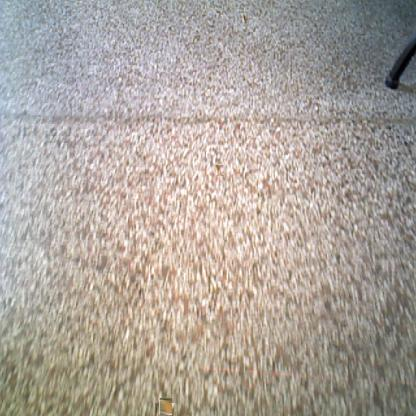dirty: (157, 400, 174, 416), (214, 164, 224, 175)
